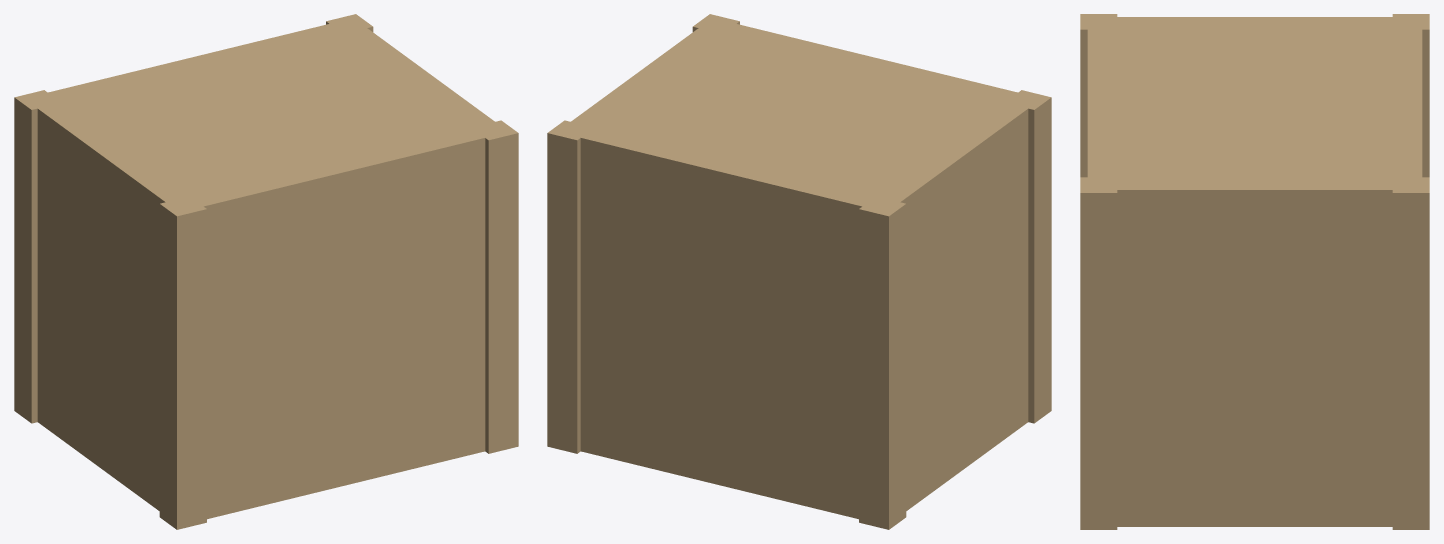
Rendered from crate.glb.
3 renders of one model, left to right at view 1: azimuth 30°, elevation 25°; view 2: azimuth 150°, elevation 25°; view 3: azimuth 270°, elevation 25°, orthographic. The views are drawn at different scales.
Bounding box in the file's own units: 1.14 × 1 × 0.94.
